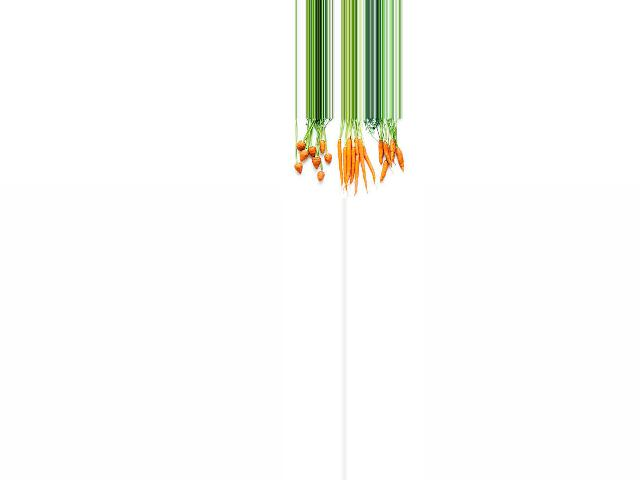carrot: (294, 162, 305, 176)
